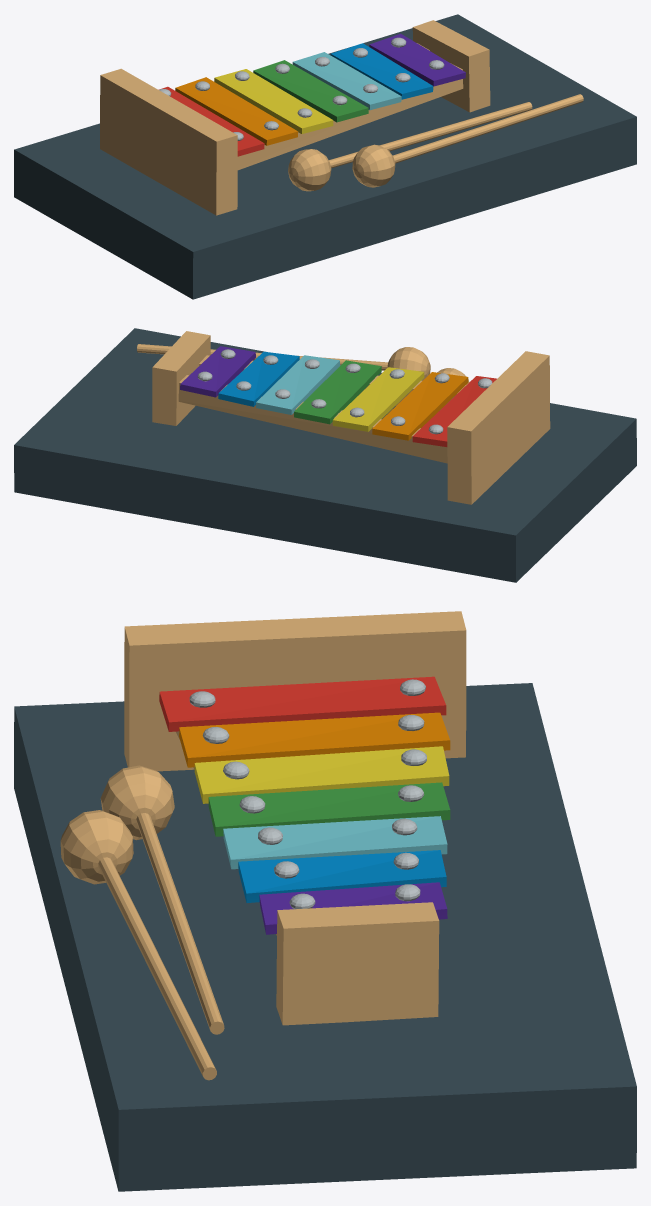
The picture shows the model from 3 angles, top to bottom: view 1: azimuth 30°, elevation 25°; view 2: azimuth 150°, elevation 25°; view 3: azimuth 270°, elevation 25°; orthographic projection. The views are drawn at different scales.
Parts seen in each view (by area): view 1: node_MeshObject46898176-PolyPaper21; view 2: node_MeshObject46898176-PolyPaper21; view 3: node_MeshObject46898176-PolyPaper21.
Part boxes in pixels (bbox=[...]): node_MeshObject46898176-PolyPaper21: bbox=[14, 14, 636, 299]; node_MeshObject46898176-PolyPaper21: bbox=[14, 328, 636, 582]; node_MeshObject46898176-PolyPaper21: bbox=[14, 611, 636, 1191].
Bounding box in the file's own units: 2.67 × 0.6298 × 1.66.
